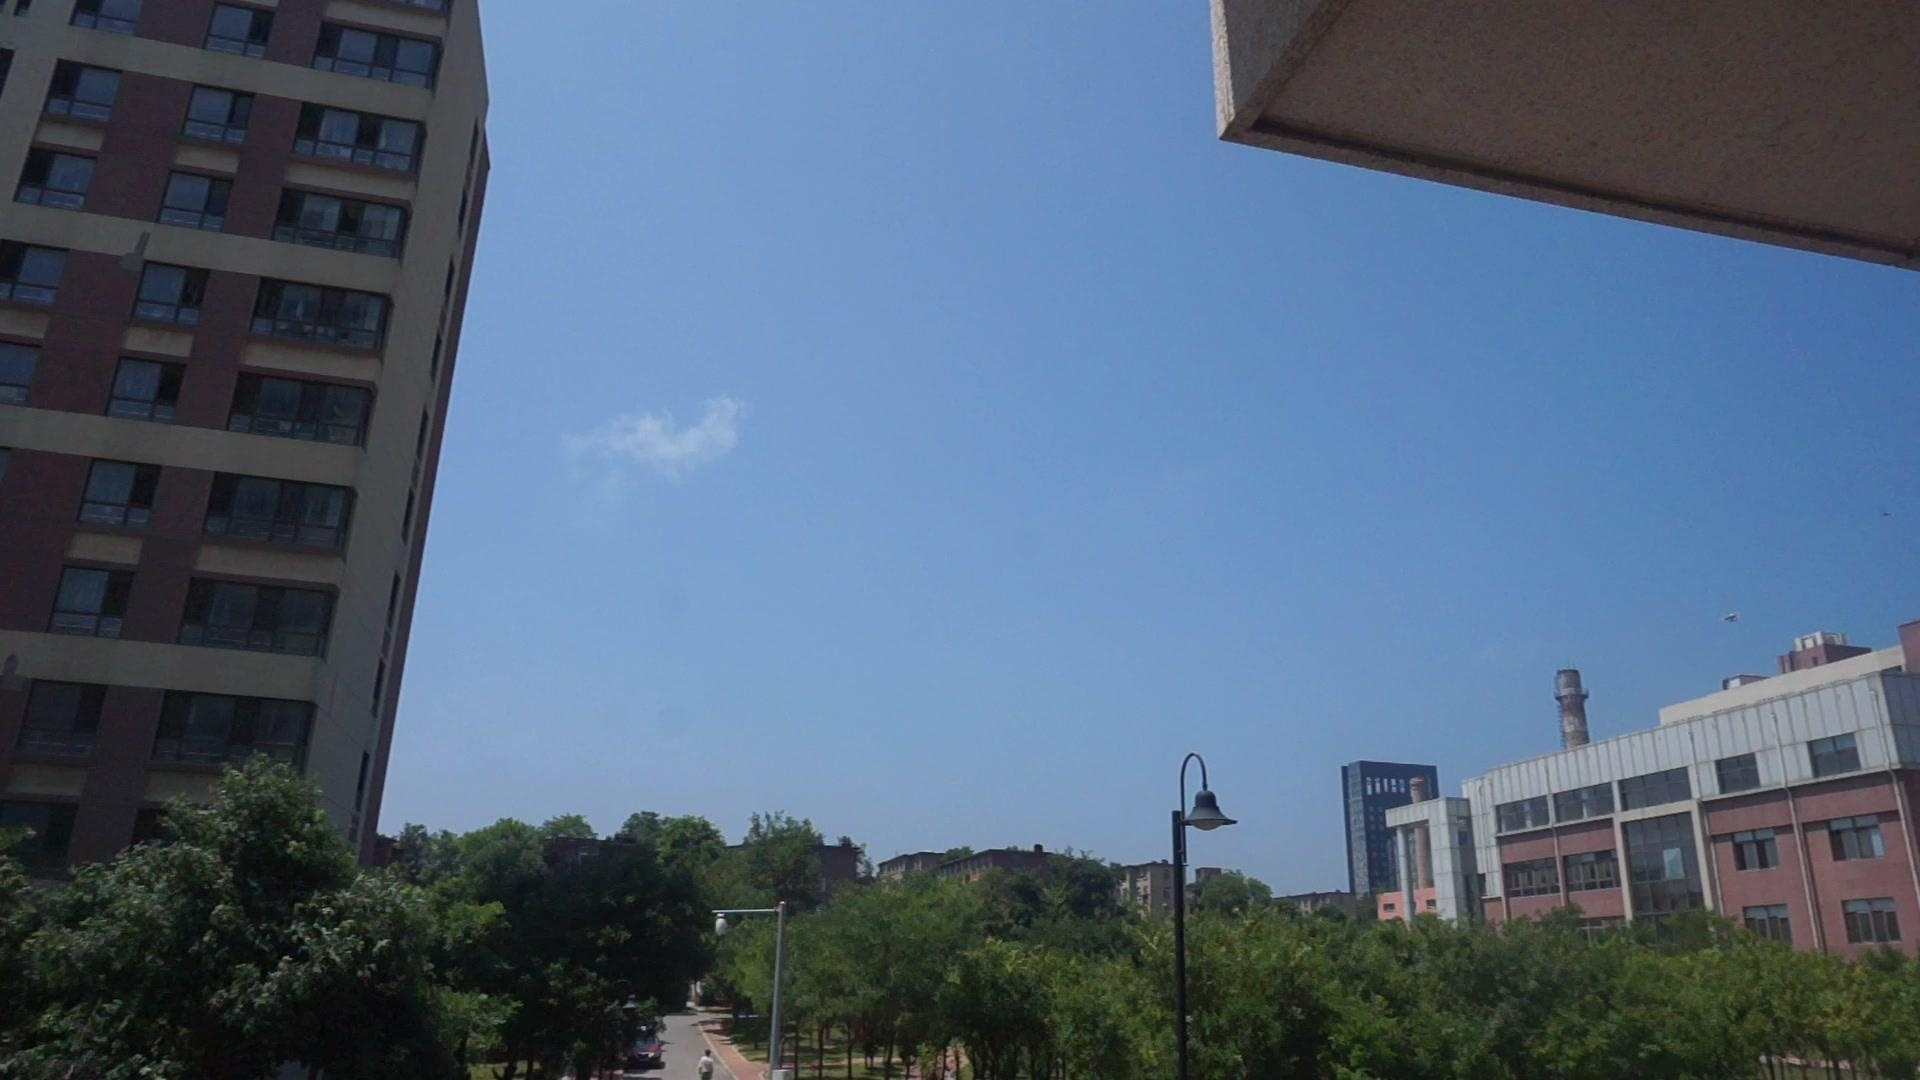UAV: (1721, 613, 1742, 624)
